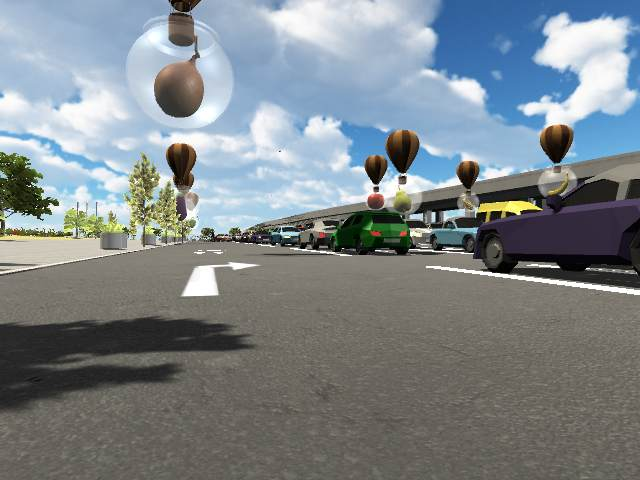ground_right: (189, 260, 263, 273)
